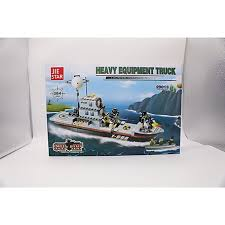tau_muctieu: (57, 97, 163, 146)
